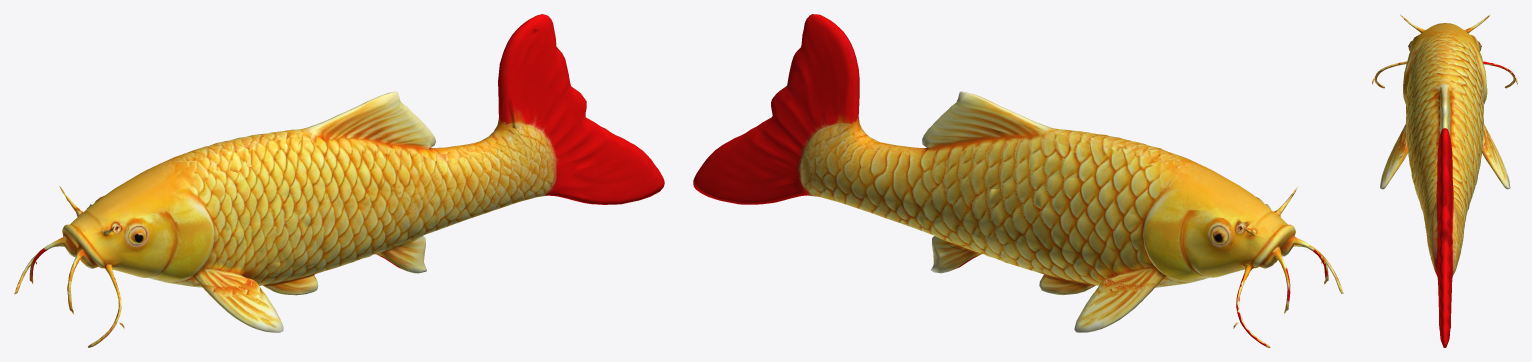
The model's file is carp.glb.
The picture shows the model from 3 angles, left to right: view 1: azimuth 30°, elevation 25°; view 2: azimuth 150°, elevation 25°; view 3: azimuth 270°, elevation 25°; orthographic projection. The views are drawn at different scales.
Parts seen in each view (by area): view 1: carp; view 2: carp; view 3: carp.
Part boxes in pixels (<box>): carp: <box>14,14,664,347</box>; carp: <box>693,14,1343,347</box>; carp: <box>1372,14,1517,347</box>.
Size of the model in its own units: 1 by 0.3552 by 0.2483.
1 material, 1 textured.
